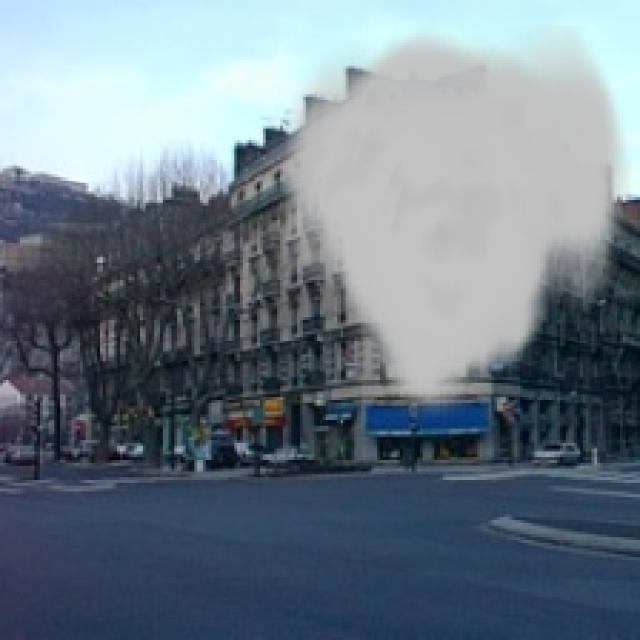smoke: (268, 26, 632, 417)
